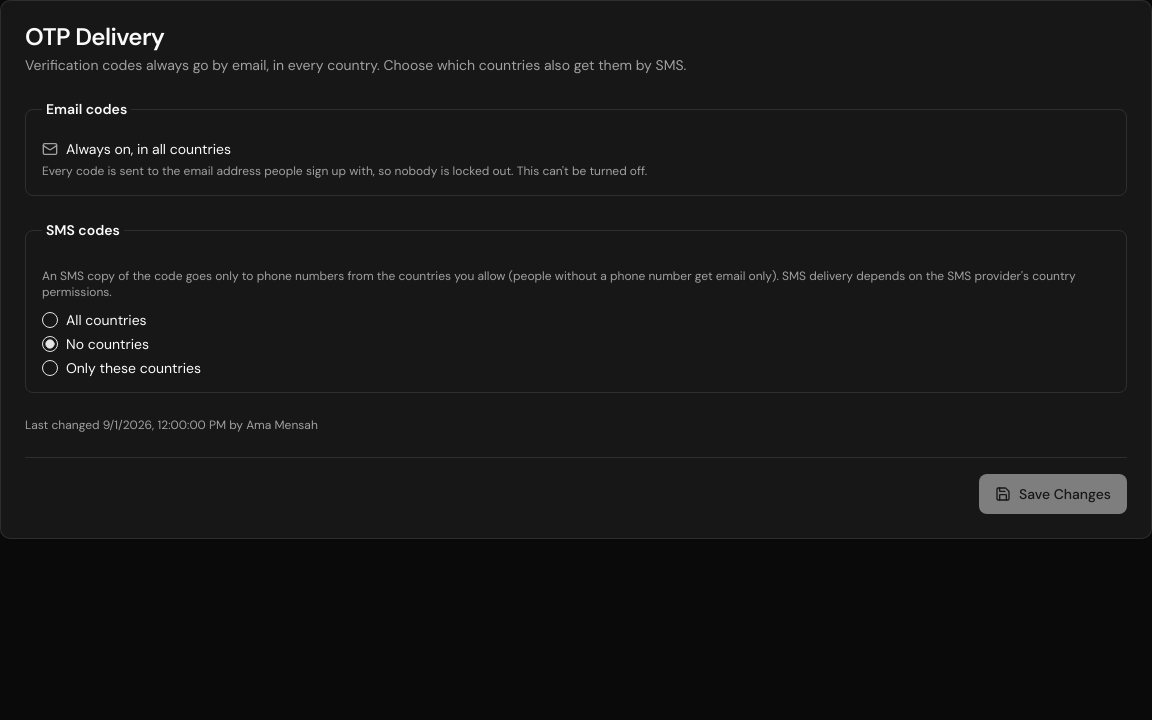
Test: OtpDeliverySettingsCard › shows an inline error and keeps Save disabled when the SMS list has zero countries
This screenshot has width=1152, height=720.
Expected: the text "Last changed 9/1/2026, 12:00:00 PM by Ama Mensah" is shown, 25,417 -> 318,433
Click the radio button named "only these countries" next to "Only these countries": {"x": 50, "y": 368} 42,360 -> 58,376
(page scrolled)
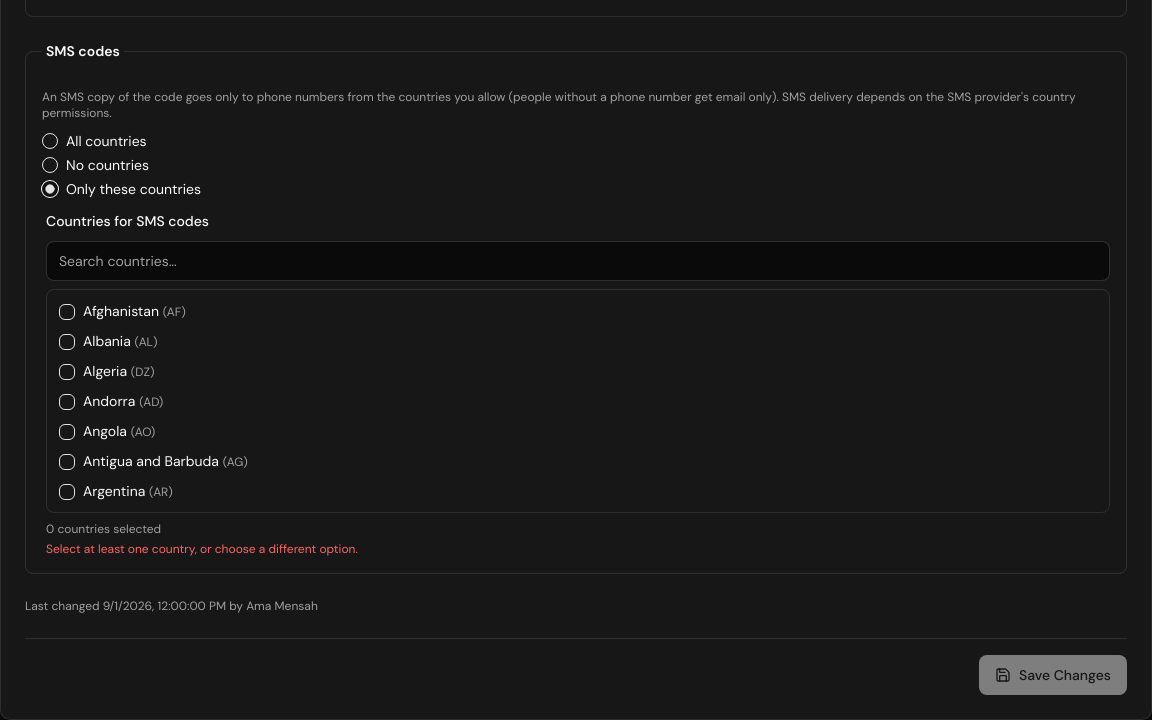
Expected: the button "Save Changes" is disabled, 979,655 -> 1127,695
Now the text "Select at least one country, or choose a different option." is shown, box 46,541 -> 358,557
